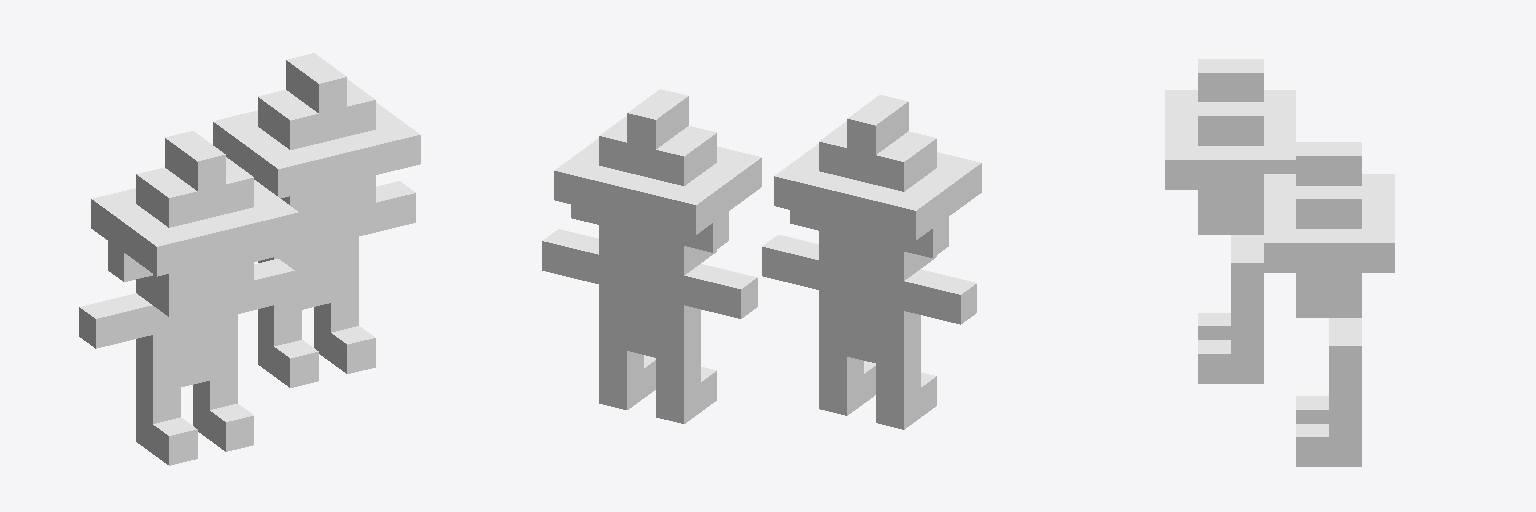
File: toy-store-10-elf.obj
3 renders of one model, left to right at view 1: azimuth 30°, elevation 25°; view 2: azimuth 150°, elevation 25°; view 3: azimuth 270°, elevation 25°, orthographic.
Visible parts, largest first — view 1: elf; view 2: elf; view 3: elf.
Part boxes in pixels (x1,y1,x2,y2): elf: (79,53,420,465); elf: (542,89,981,429); elf: (1165,59,1394,466).
Bounding box in the file's own units: 1.3 × 1 × 0.7.